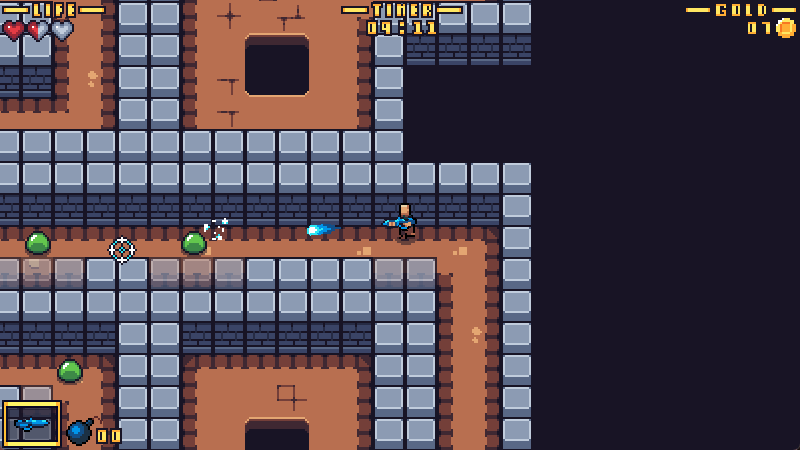aim: (107, 236, 135, 265)
enemy_slug: (55, 356, 84, 384), (178, 230, 208, 255), (25, 229, 53, 255)
gold_counter: (685, 1, 800, 39)
health-3: (1, 18, 75, 42)
player: (380, 205, 417, 242)
shoot: (304, 221, 340, 236)
